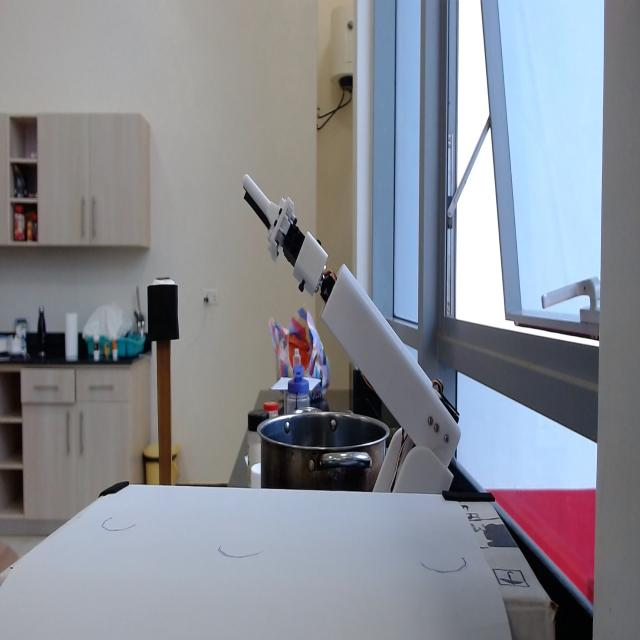cooking_pot: (258, 408, 389, 493)
spatula: (148, 278, 181, 482)
